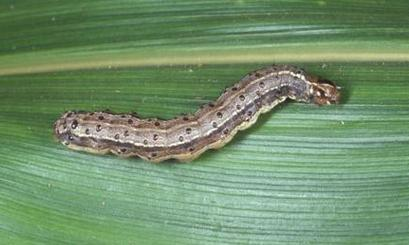caterpillars: (35, 47, 368, 184)
